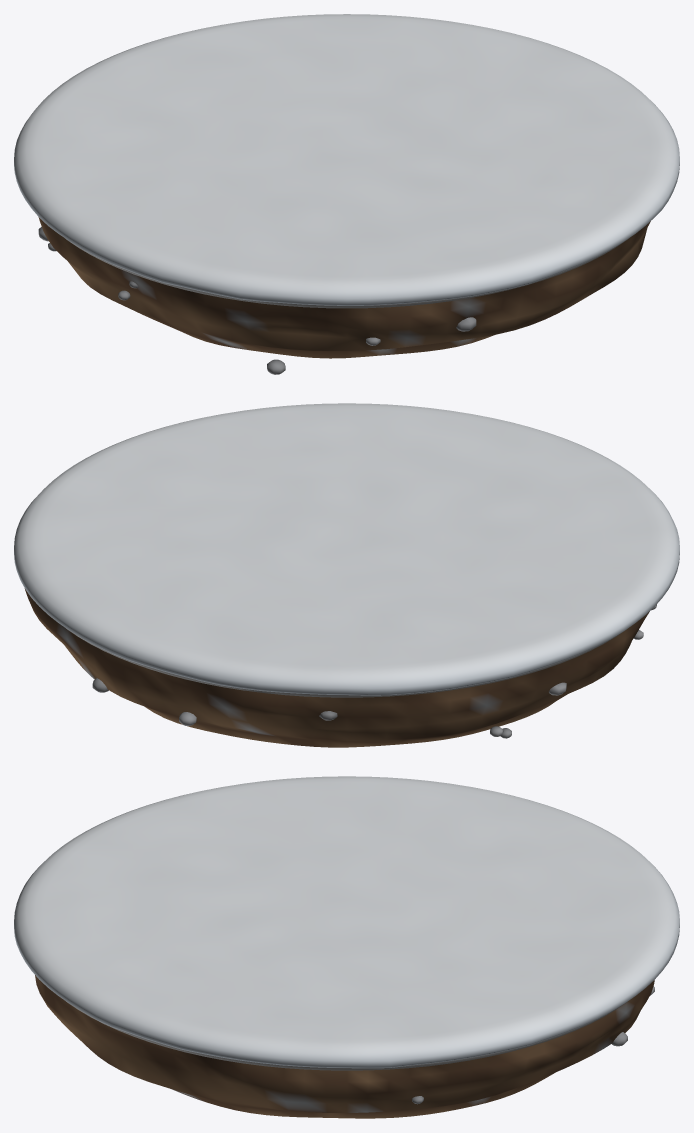
File: island.glb
The picture shows the model from 3 angles, top to bottom: view 1: azimuth 30°, elevation 25°; view 2: azimuth 150°, elevation 25°; view 3: azimuth 270°, elevation 25°; orthographic projection.
Visible parts, largest first — view 1: island_snow, island_soil, island_grass; view 2: island_snow, island_soil, island_grass; view 3: island_snow, island_soil, island_grass.
Boxes of the visible parts, left/top/right/bottom form: island_snow: left=14, top=14, right=679, bottom=305; island_soil: left=38, top=217, right=650, bottom=374; island_grass: left=66, top=239, right=627, bottom=308; island_snow: left=14, top=403, right=679, bottom=695; island_soil: left=24, top=588, right=656, bottom=747; island_grass: left=66, top=628, right=620, bottom=697; island_snow: left=14, top=776, right=679, bottom=1068; island_soil: left=35, top=975, right=654, bottom=1118; island_grass: left=66, top=1001, right=627, bottom=1070.
Size of the model in its own units: 8.66 by 2.06 by 8.66.
